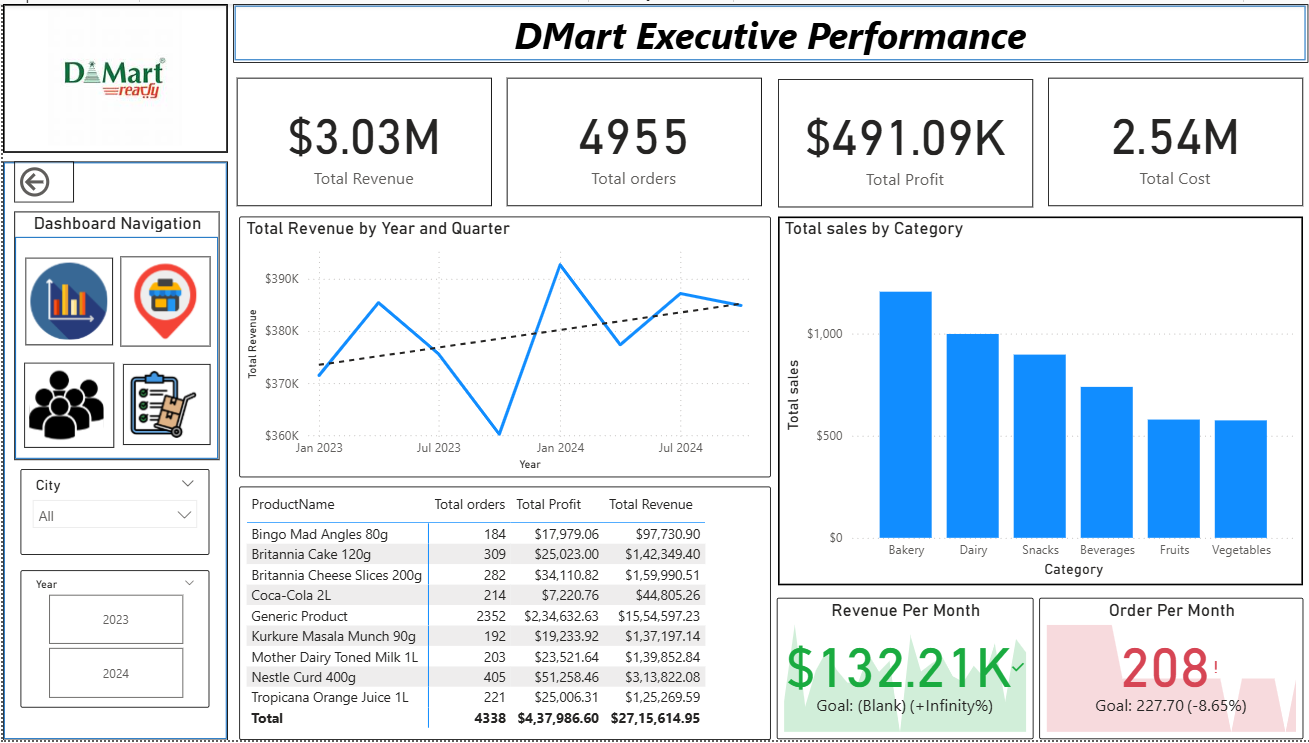

The dashboard page shown, as its layout file describes it:
{"tool":"powerbi","page":{"name":"Page 1","canvas":[1280,720],"ordinal":0},"visuals":[{"type":"shape","box":[225,0,1051.6,57.5],"z":0},{"type":"card","fields":{"Values":["Measure Table .Total Revenue"]},"box":[228.7,72.1,249.3,126],"z":0,"group":"g1"},{"type":"shape","title":"Dashboard Navigation","box":[11,203,200.5,243.3],"z":0,"group":"g2"},{"type":"image","box":[0,0,220.1,145.5],"z":1000},{"type":"card","fields":{"Values":["Measure Table .Total orders"]},"box":[492.8,72.1,249.3,126],"z":1000,"group":"g1"},{"type":"actionButton","box":[22,248.3,85.6,85.6],"z":1000,"group":"g2"},{"type":"card","fields":{"Values":["Measure Table .Total Profit"]},"box":[758.4,73.3,249.3,126],"z":2000,"group":"g1"},{"type":"shape","box":[0,154.1,220.1,566.2],"z":2000},{"type":"actionButton","box":[114.9,247,88,88],"z":2000,"group":"g2"},{"type":"group","id":"g1","title":"Group 1","box":[228.7,72.1,1043.1,127.2],"z":3000},{"type":"card","fields":{"Values":["Measure Table .Total Cost"]},"box":[1022.5,72.1,249.3,126],"z":3000,"group":"g1"},{"type":"actionButton","box":[20.8,351,88,83.2],"z":3000,"group":"g2"},{"type":"columnChart","fields":{"Category":["ProductDim.Category"],"Y":["Measure Table .Total sales"]},"box":[758.2,207.9,513.6,360.7],"z":4000},{"type":"actionButton","box":[117.4,352.2,85.6,79.5],"z":4000,"group":"g2"},{"type":"lineChart","fields":{"Category":["Date_Dim.Start of Month.Variation.Date Hierarchy.Year","Date_Dim.Start of Month.Variation.Date Hierarchy.Quarter","Date_Dim.Start of Month.Variation.Date Hierarchy.Month","Date_Dim.Start of Month.Variation.Date Hierarchy.Day"],"Y":["Measure Table .Total Revenue"]},"box":[231.1,207.9,519.7,255.6],"z":5000},{"type":"pivotTable","fields":{"Rows":["ProductDim.ProductName"],"Values":["Measure Table .Total orders","Measure Table .Total Profit","Measure Table .Total Revenue"]},"box":[231.1,472,519.7,248.2],"z":6000},{"type":"kpi","title":"Revenue Per Month","fields":{"Indicator":["Measure Table .Total Revenue"],"TrendLine":["Date_Dim.Start of Month"],"Goal":["Measure Table .privious month revenue"]},"box":[757.4,581.4,251,138.5],"z":7000},{"type":"kpi","title":"Order Per Month","fields":{"Indicator":["Measure Table .Total orders"],"TrendLine":["Date_Dim.Start of Month"],"Goal":["Measure Table .Target Order"]},"box":[1014.3,581.4,258.3,138.5],"z":8000},{"type":"slicer","fields":{"Values":["StoreDim.City"]},"box":[17.1,454.9,184.6,84.4],"z":9000},{"type":"slicer","fields":{"Values":["Date_Dim.Year"]},"box":[17.3,554,184.7,134.2],"z":10000},{"type":"group","id":"g2","title":"Group 3","box":[11,203,200.5,243.3],"z":11000},{"type":"actionButton","box":[11,154.1,58.7,40.4],"z":12000}]}

Visuals, with their boxes in screenshot pixels (x1, y1, x2, y2), scaled from the page's 1280x720 canvas onto the 1309x743 screenshot:
shape: [x1=230, y1=0, x2=1306, y2=59]
card - Measure Table .Total Revenue: [x1=234, y1=74, x2=489, y2=204]
"Dashboard Navigation" shape: [x1=11, y1=209, x2=216, y2=461]
image: [x1=0, y1=0, x2=225, y2=150]
card - Measure Table .Total orders: [x1=504, y1=74, x2=759, y2=204]
actionButton: [x1=22, y1=256, x2=110, y2=345]
card - Measure Table .Total Profit: [x1=776, y1=76, x2=1031, y2=206]
shape: [x1=0, y1=159, x2=225, y2=742]
actionButton: [x1=118, y1=255, x2=207, y2=346]
"Group 1" group: [x1=234, y1=74, x2=1301, y2=206]
card - Measure Table .Total Cost: [x1=1046, y1=74, x2=1301, y2=204]
actionButton: [x1=21, y1=362, x2=111, y2=448]
columnChart - ProductDim.Category x Measure Table .Total sales: [x1=775, y1=215, x2=1301, y2=587]
actionButton: [x1=120, y1=363, x2=208, y2=445]
lineChart - Date_Dim.Start of Month.Variation.Date Hierarchy.Year x Date_Dim.Start of Month.Variation.Date Hierarchy.Quarter: [x1=236, y1=215, x2=768, y2=478]
pivotTable - ProductDim.ProductName x Measure Table .Total orders: [x1=236, y1=487, x2=768, y2=742]
"Revenue Per Month" kpi: [x1=775, y1=600, x2=1031, y2=742]
"Order Per Month" kpi: [x1=1037, y1=600, x2=1301, y2=742]
slicer - StoreDim.City: [x1=17, y1=469, x2=206, y2=557]
slicer - Date_Dim.Year: [x1=18, y1=572, x2=207, y2=710]
"Group 3" group: [x1=11, y1=209, x2=216, y2=461]
actionButton: [x1=11, y1=159, x2=71, y2=201]
